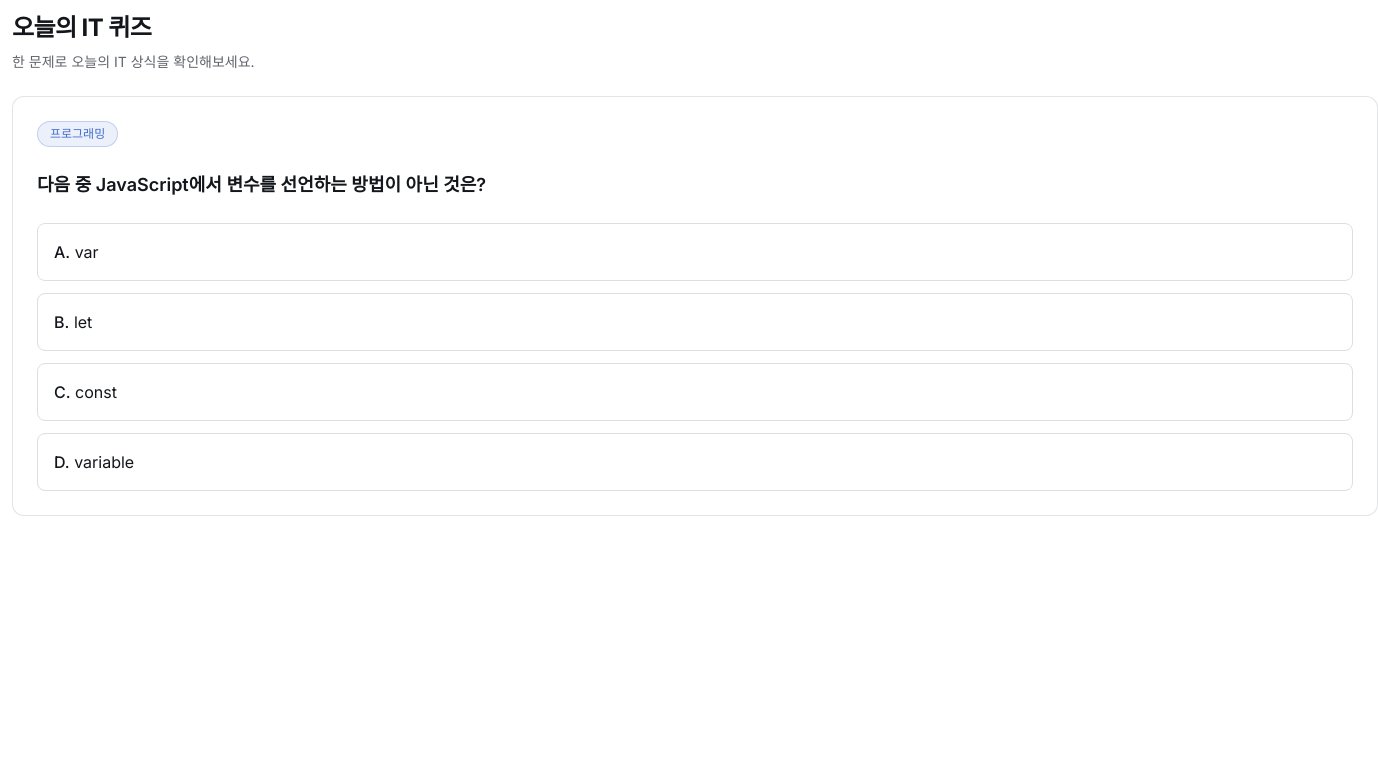
Test: TodayQuiz › 오답을 제출하면 오답 문구를 보여준다
Expected: the heading "다음 중 JavaScript에서 변수를 선언하는 방법이 아닌 것은?" is shown, [37,174,486,195]
Click the button "A. var". click: (60, 252)
box: [37,223,1353,281]
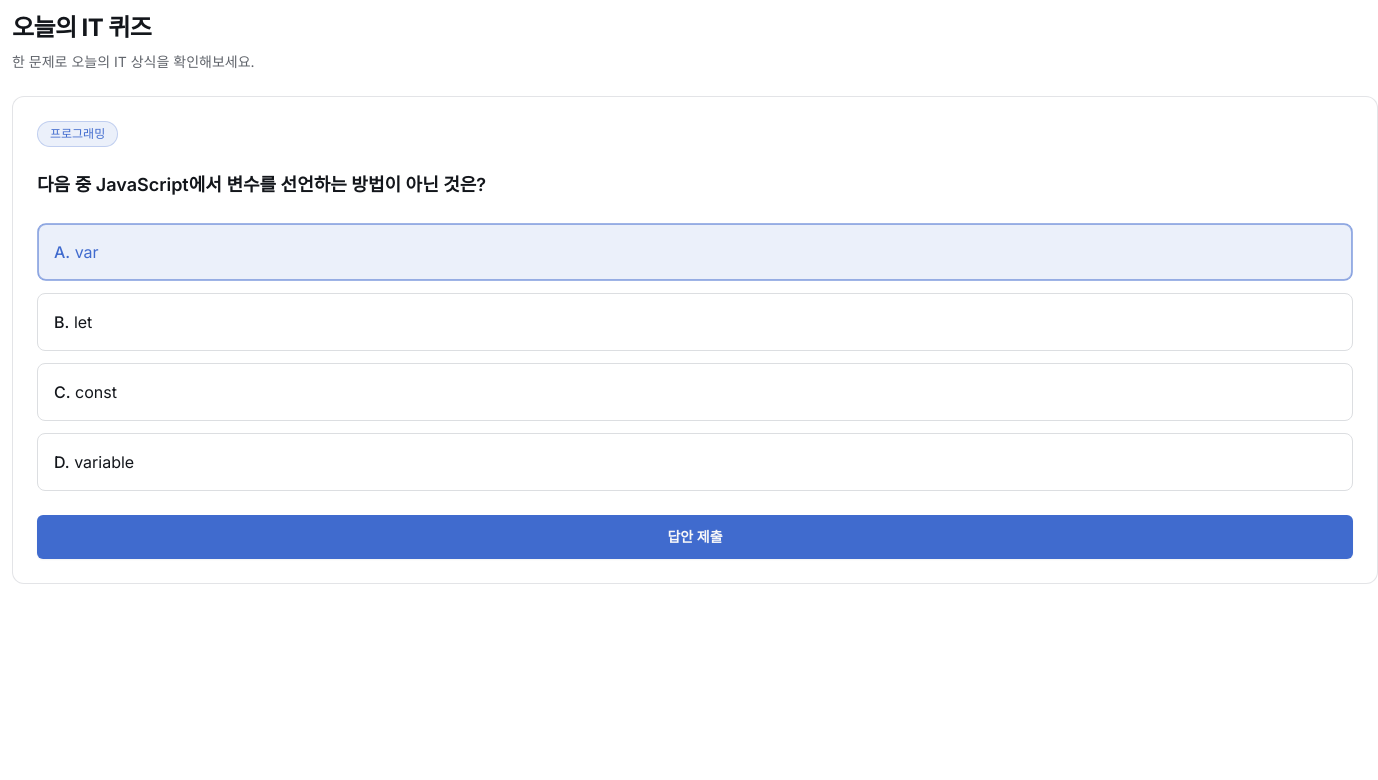
Click the button "답안 제출". click: (695, 537)
box: [37,515,1353,559]
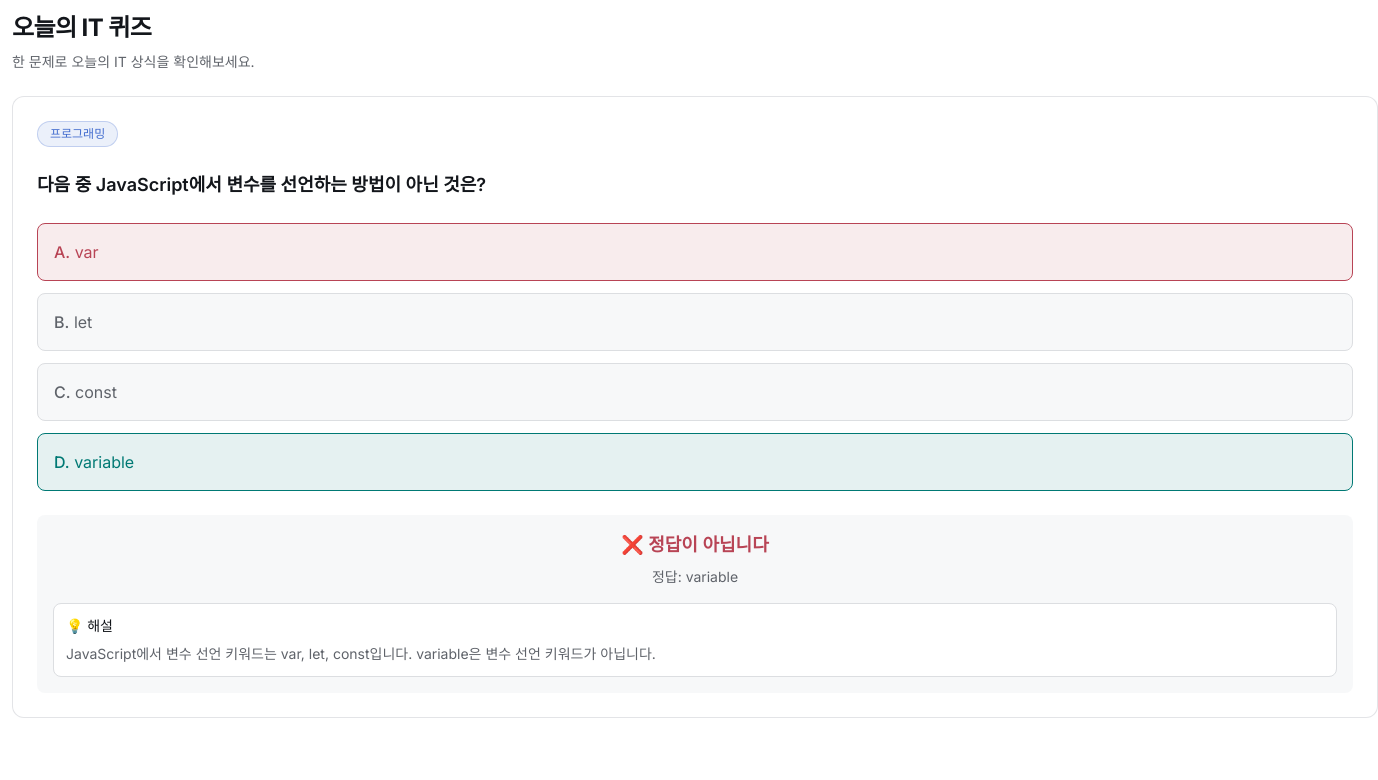
Result: the text "❌ 정답이 아닙니다" is shown at [621,534,769,555]
